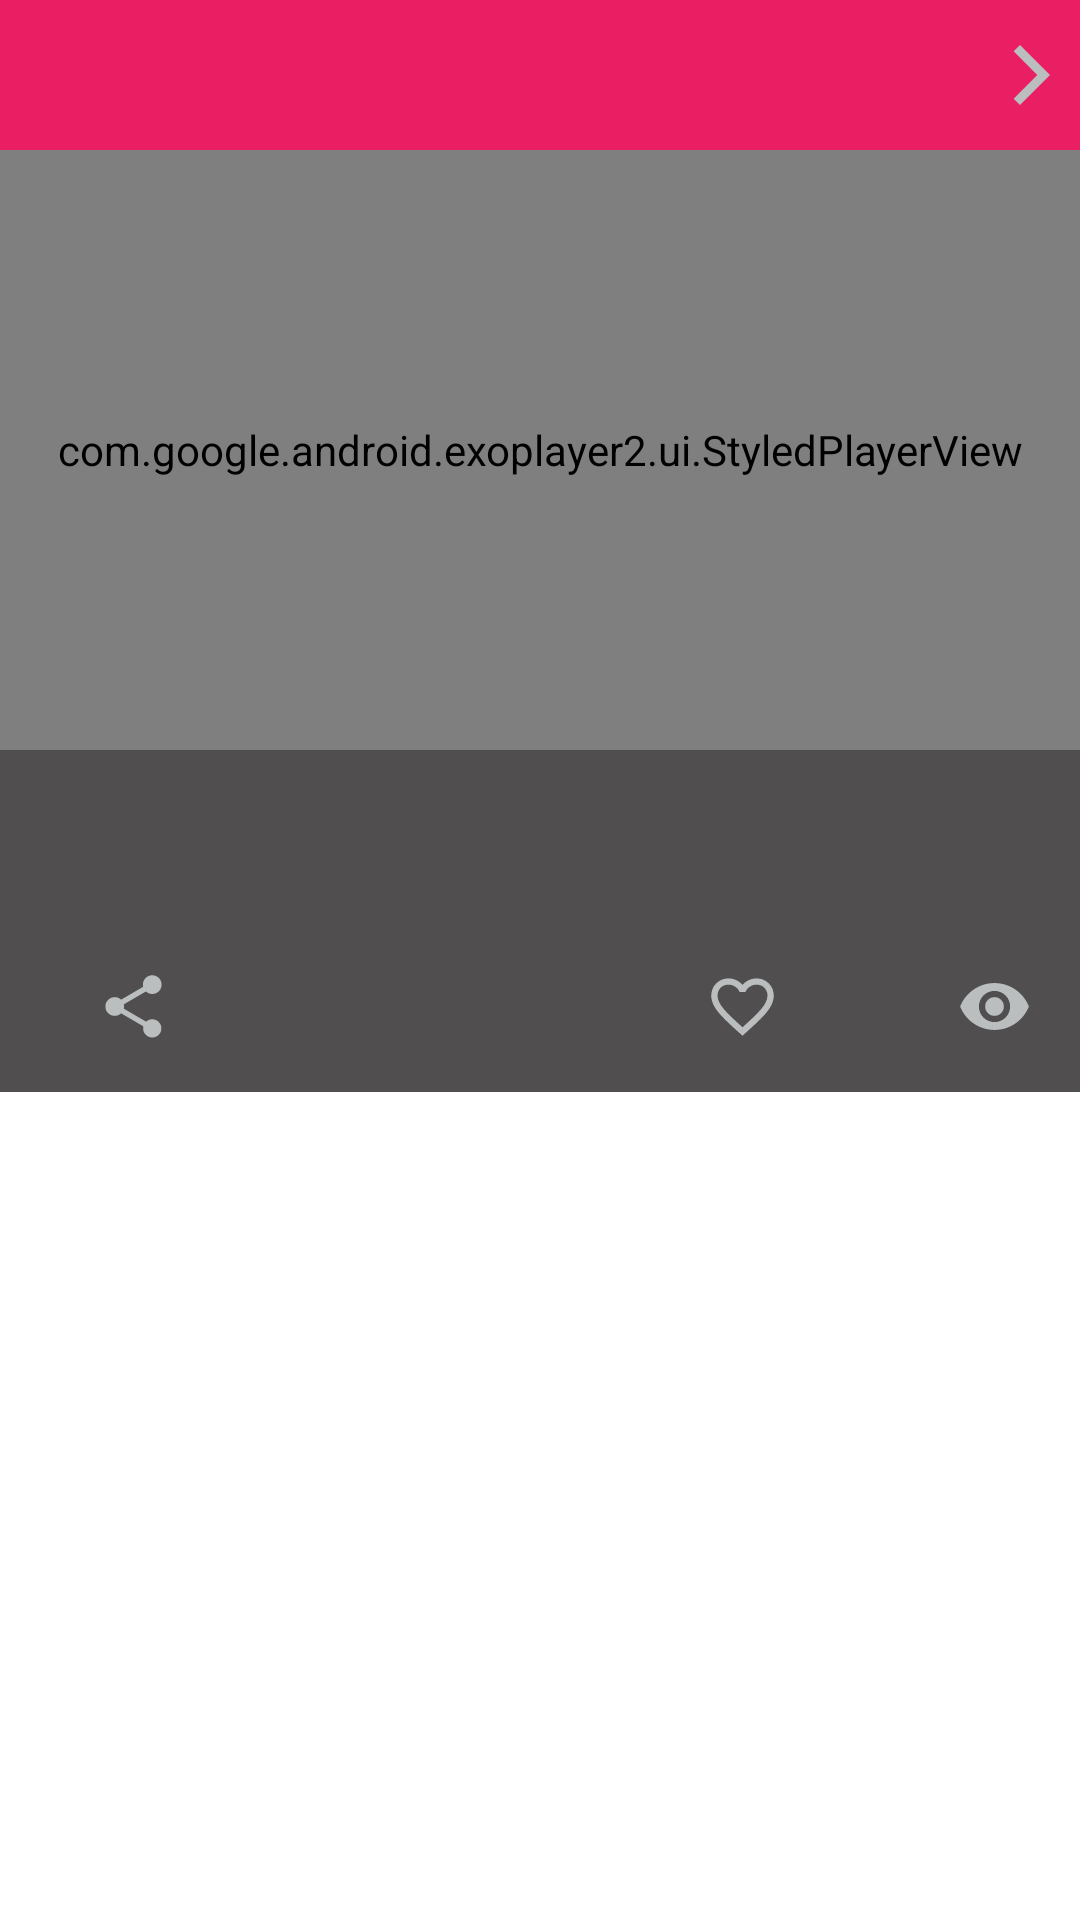

Where to tap for icons on this 1080*1920 app screen, as (x=x, y=y):
arrow forward: (x=1032, y=75)
favorite border: (x=742, y=1007)
share: (x=133, y=1006)
